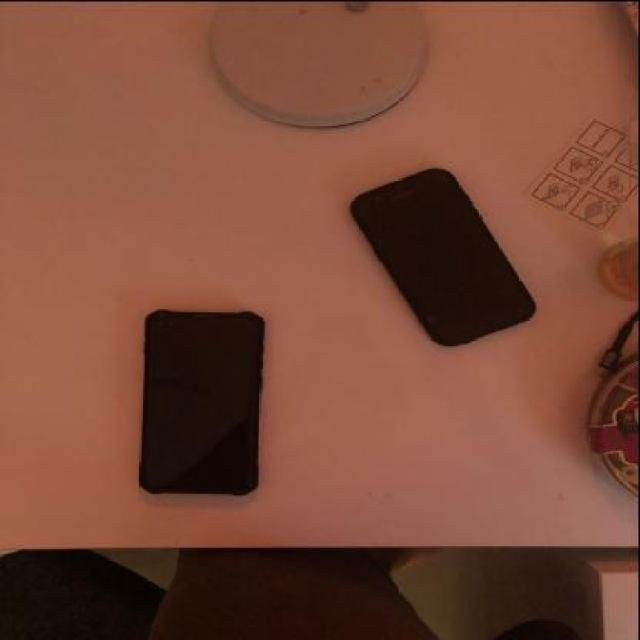mobile: (348, 166, 542, 345), (139, 311, 263, 492)
